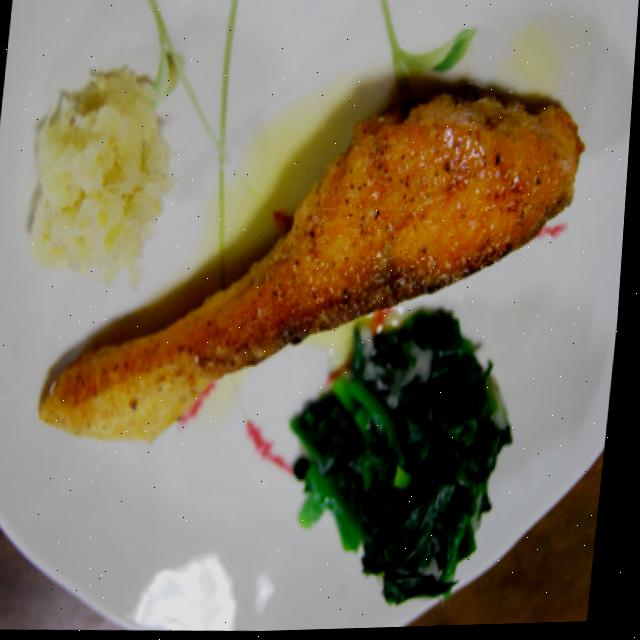熟制海鲜: (20, 63, 628, 485)
